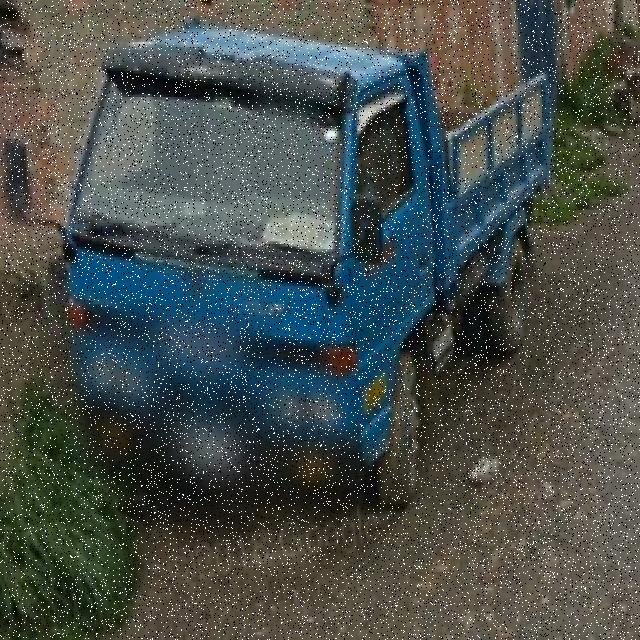cars: (51, 28, 561, 529)
